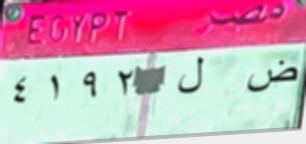1: (42, 68, 65, 107)
2: (111, 65, 136, 100)
4: (5, 70, 30, 110)
9: (78, 65, 102, 104)
daad: (242, 59, 299, 99)
laam: (173, 54, 209, 97)
